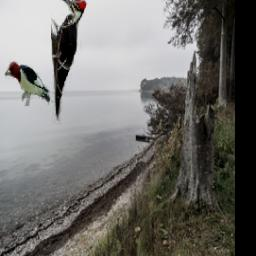Woodpecker: (50, 0, 87, 125), (4, 58, 54, 107)
